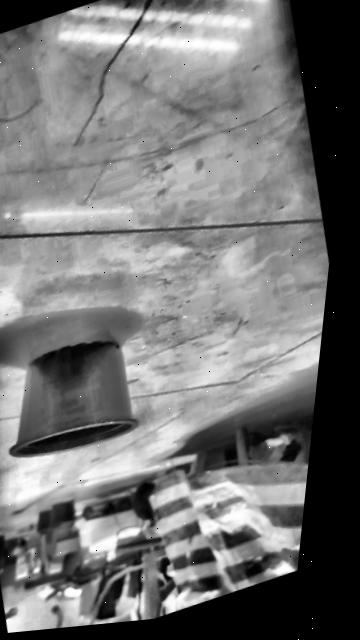pot: (0, 325, 149, 474)
